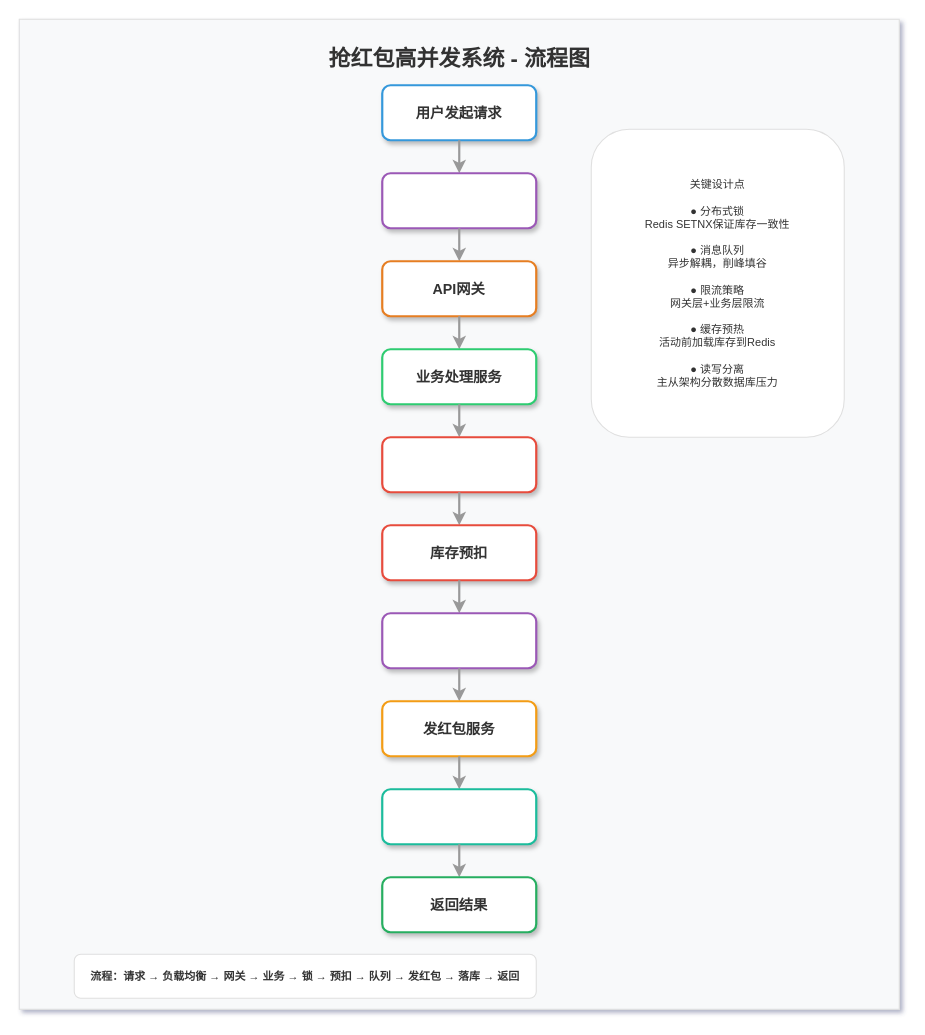
This 925x1035 diagram has some shape labels left out. Here are the shapes that lost their labels. From the top down, the centre of each, then its label:
point 459,202: 负载均衡
point 459,466: Redis分布式锁
point 459,641: 消息队列
point 459,818: 数据库落库
